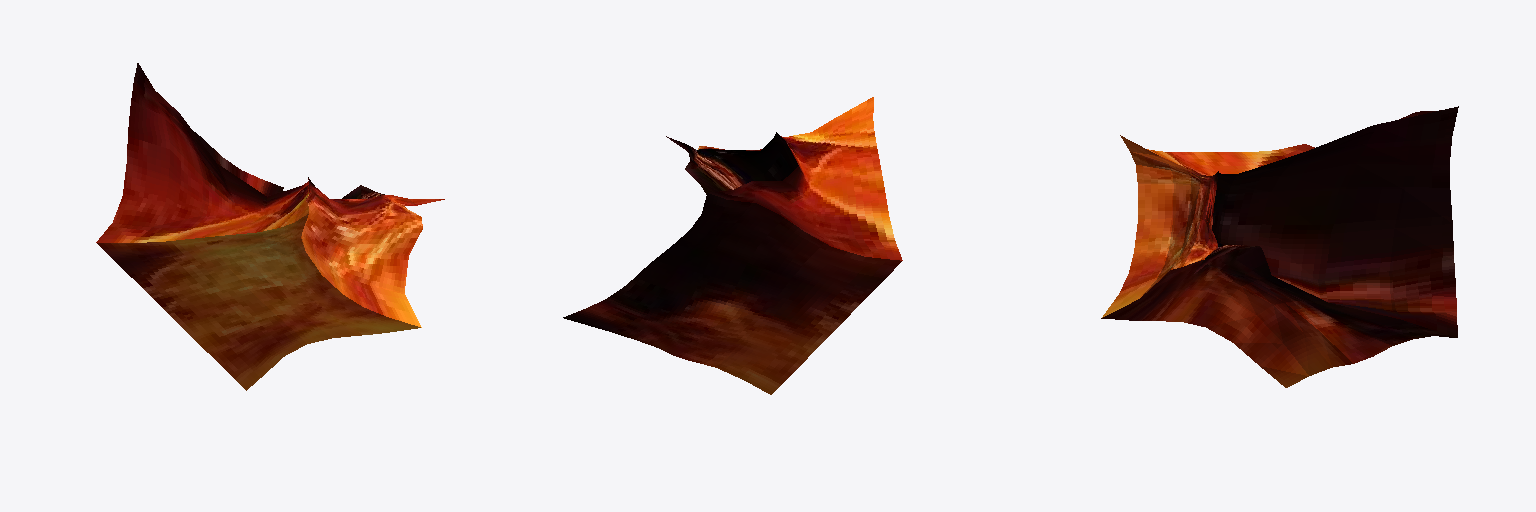
3 views of the same model, side by side, from view 1: azimuth 30°, elevation 25°; view 2: azimuth 150°, elevation 25°; view 3: azimuth 270°, elevation 25° (orthographic).
Parts seen in each view (by area): view 1: 立方体.001; view 2: 立方体.001; view 3: 立方体.001.
Boxes of the visible parts, <box> form: 立方体.001: <box>96,63,444,390</box>; 立方体.001: <box>563,97,902,394</box>; 立方体.001: <box>1101,106,1458,387</box>.
Size of the model in its own units: 0.2357 by 0.2072 by 0.2476.
1 materials, 1 textured.